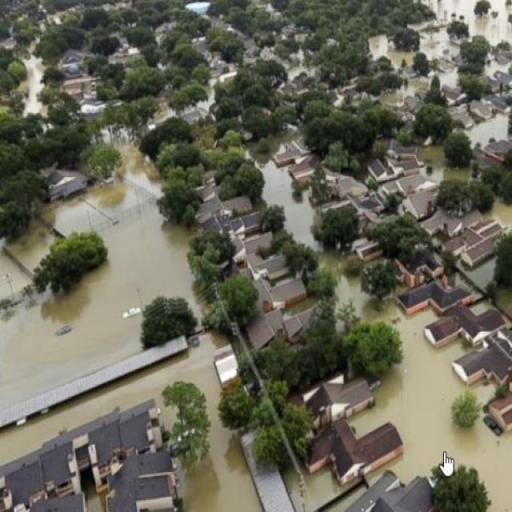flood: (261, 163, 512, 512), (0, 139, 195, 410), (0, 333, 263, 512), (350, 309, 512, 512), (374, 0, 512, 68), (283, 470, 341, 512), (20, 55, 44, 114)
house: (297, 373, 378, 432), (110, 448, 182, 512), (329, 417, 402, 476), (424, 306, 506, 349), (396, 281, 474, 315), (366, 472, 432, 512), (450, 344, 512, 384), (267, 276, 308, 314), (42, 170, 88, 200)
